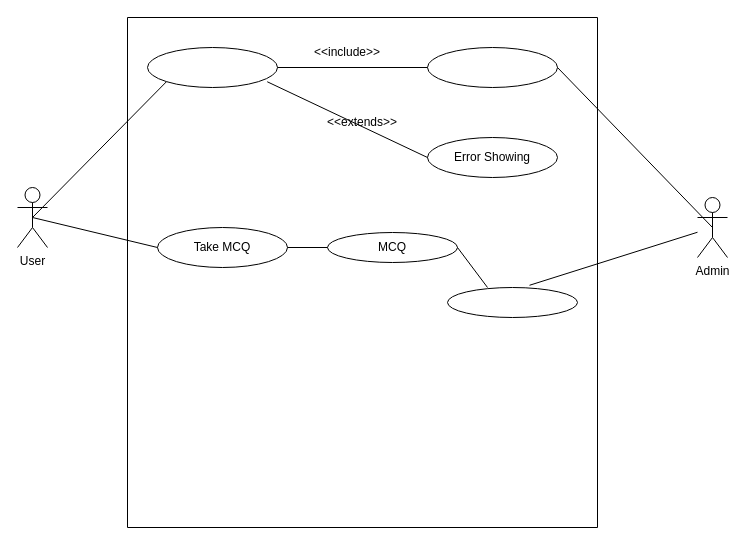
Image size: 747x545. Some labels were removed from this diagram. The shapes that lost their labels are listed below. From the top down, each one's box as (x1, y1, x2, y2) in pixels, then its label:
(146, 46, 278, 88): Login
(426, 46, 558, 88): Validation Checking
(446, 286, 578, 318): Add MCQ
